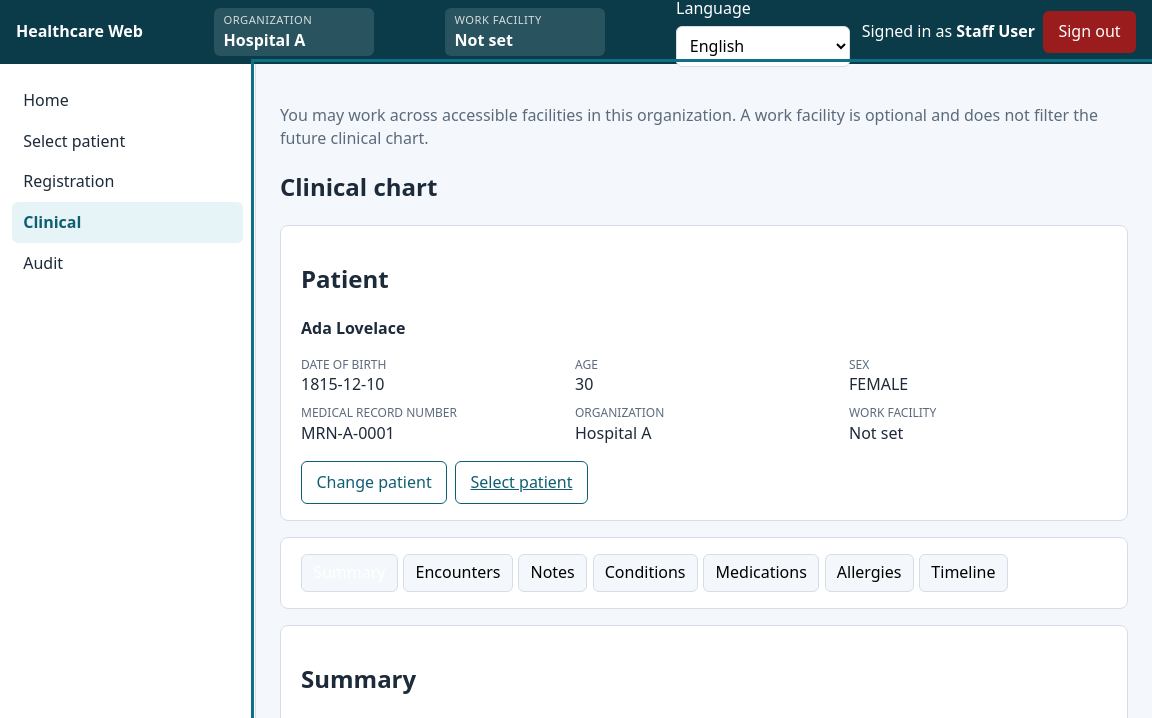
it: clinical chart ui › distinguishes authorized empty allergies from unavailable
The image size is (1152, 718).
Click the button "Allergies".
click(869, 573)  # box [825,554,914,592]
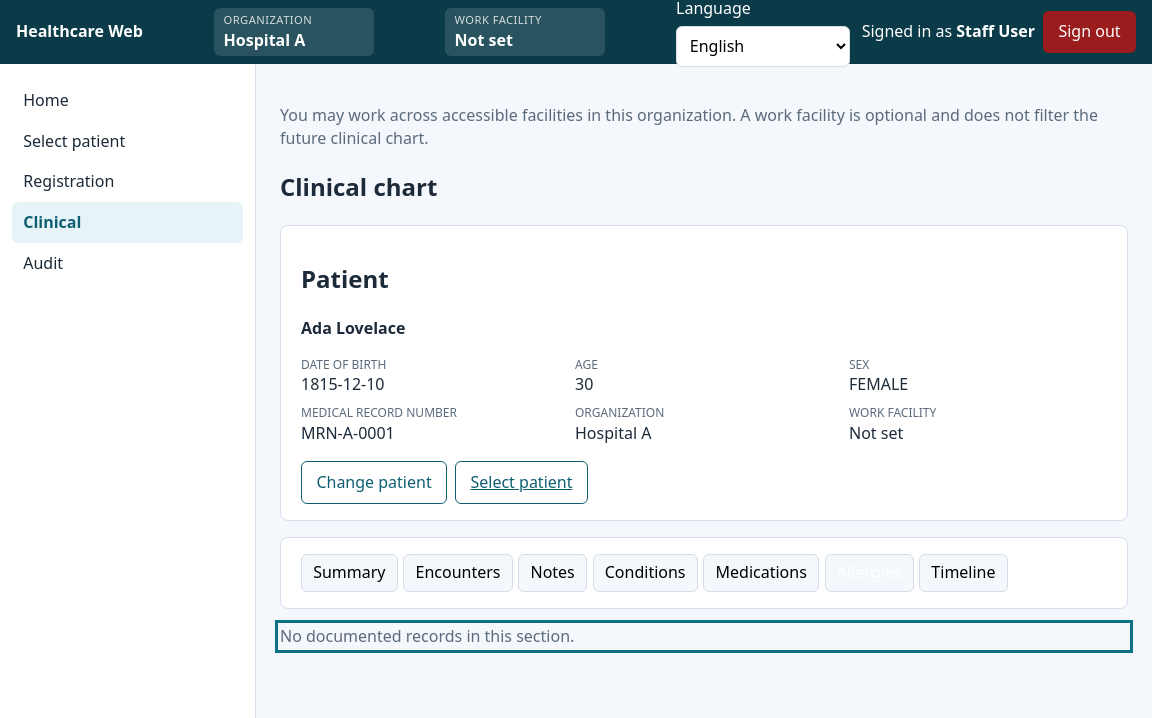
Check: the text "No documented records in this section." is shown, box [280,625,574,647]
